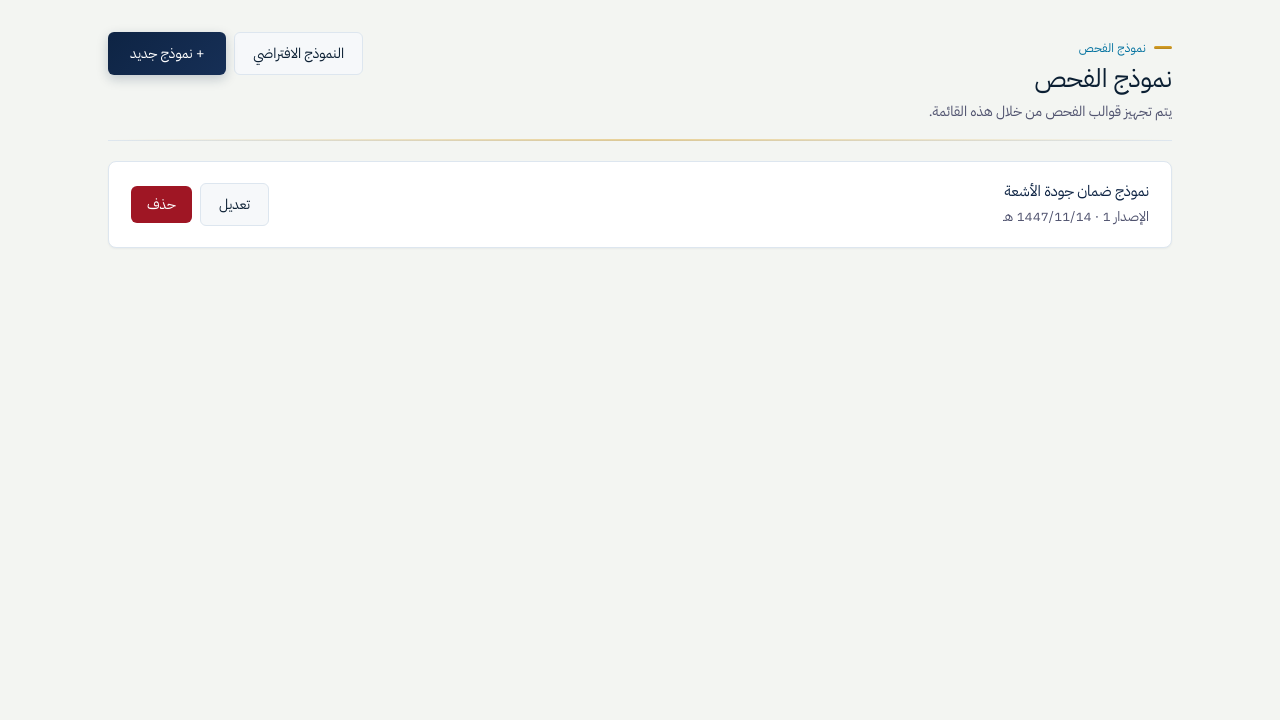
Test case: TemplateBuilder delete confirmation › cancelling leaves the template on disk
This screenshot has width=1280, height=720.
Click the button "حذف" at (161, 204), box x1=131 y1=186 x2=192 y2=223
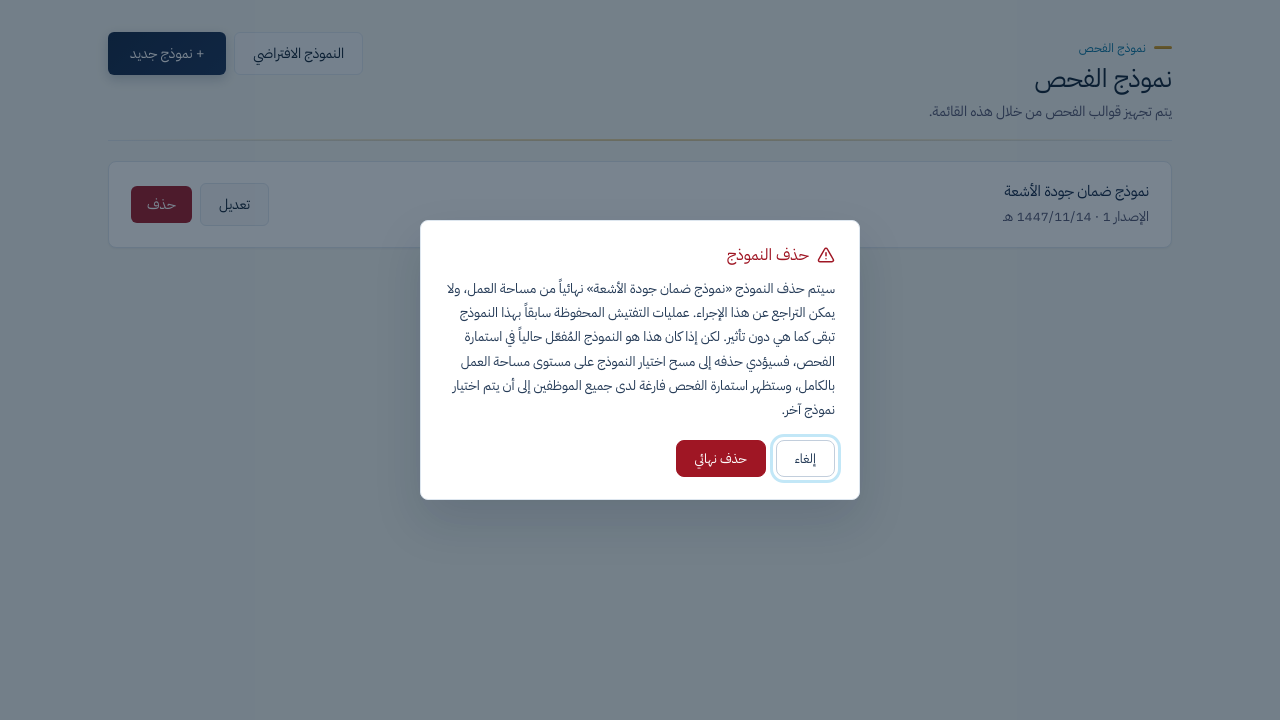
Click the button "إلغاء" at (805, 459), box x1=776 y1=440 x2=835 y2=477
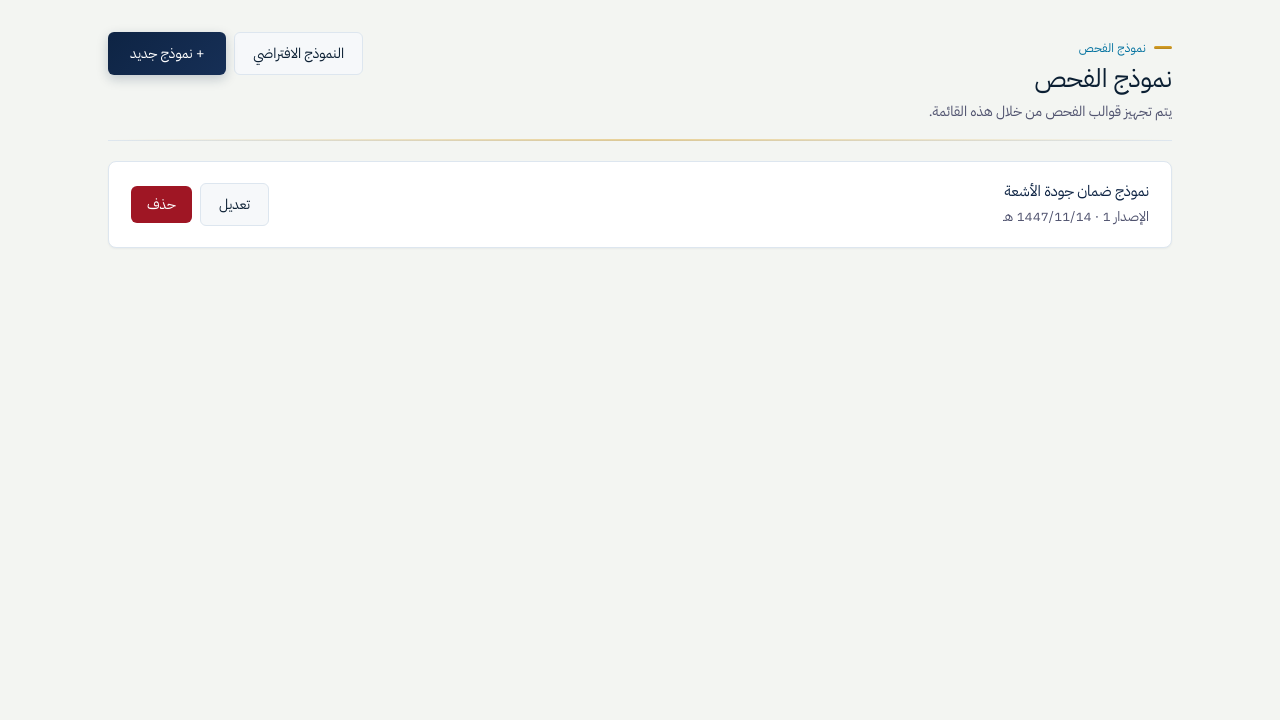
Expected: the text "سيتم حذف النموذج «" is gone
